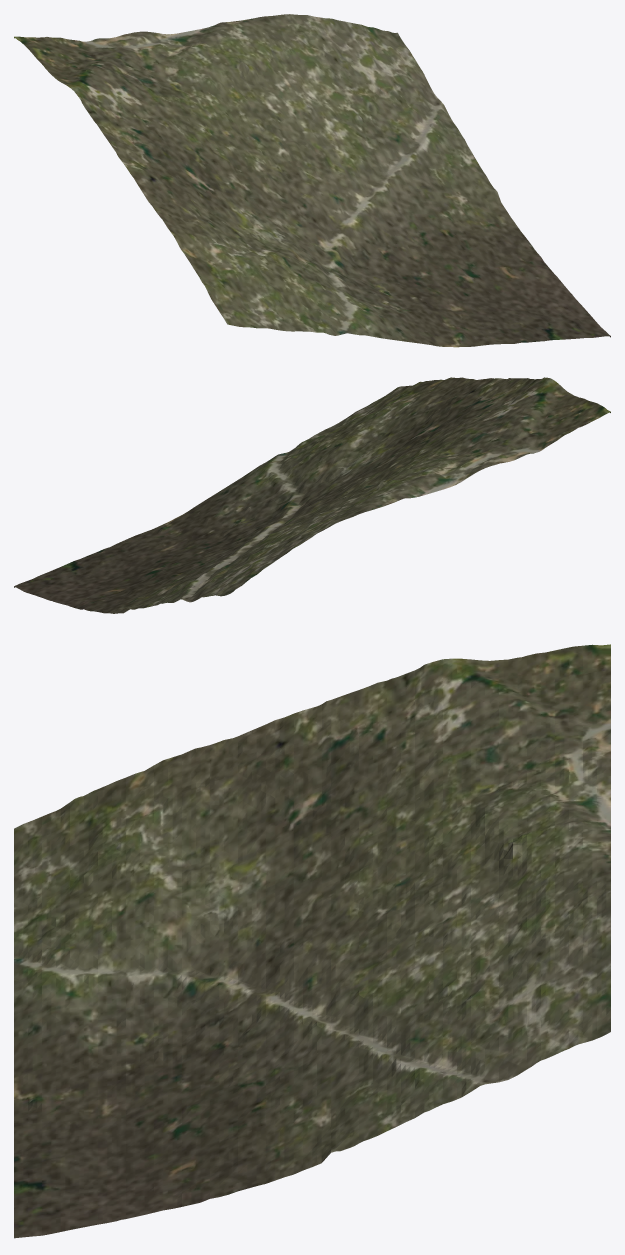
3 views of the same model, one above another, from view 1: azimuth 30°, elevation 25°; view 2: azimuth 210°, elevation 25°; view 3: azimuth 270°, elevation 25° (orthographic). The views are drawn at different scales.
Bounding box in the file's own units: 250 × 149 × 241.
Materials: 1 (1 with a texture image).
